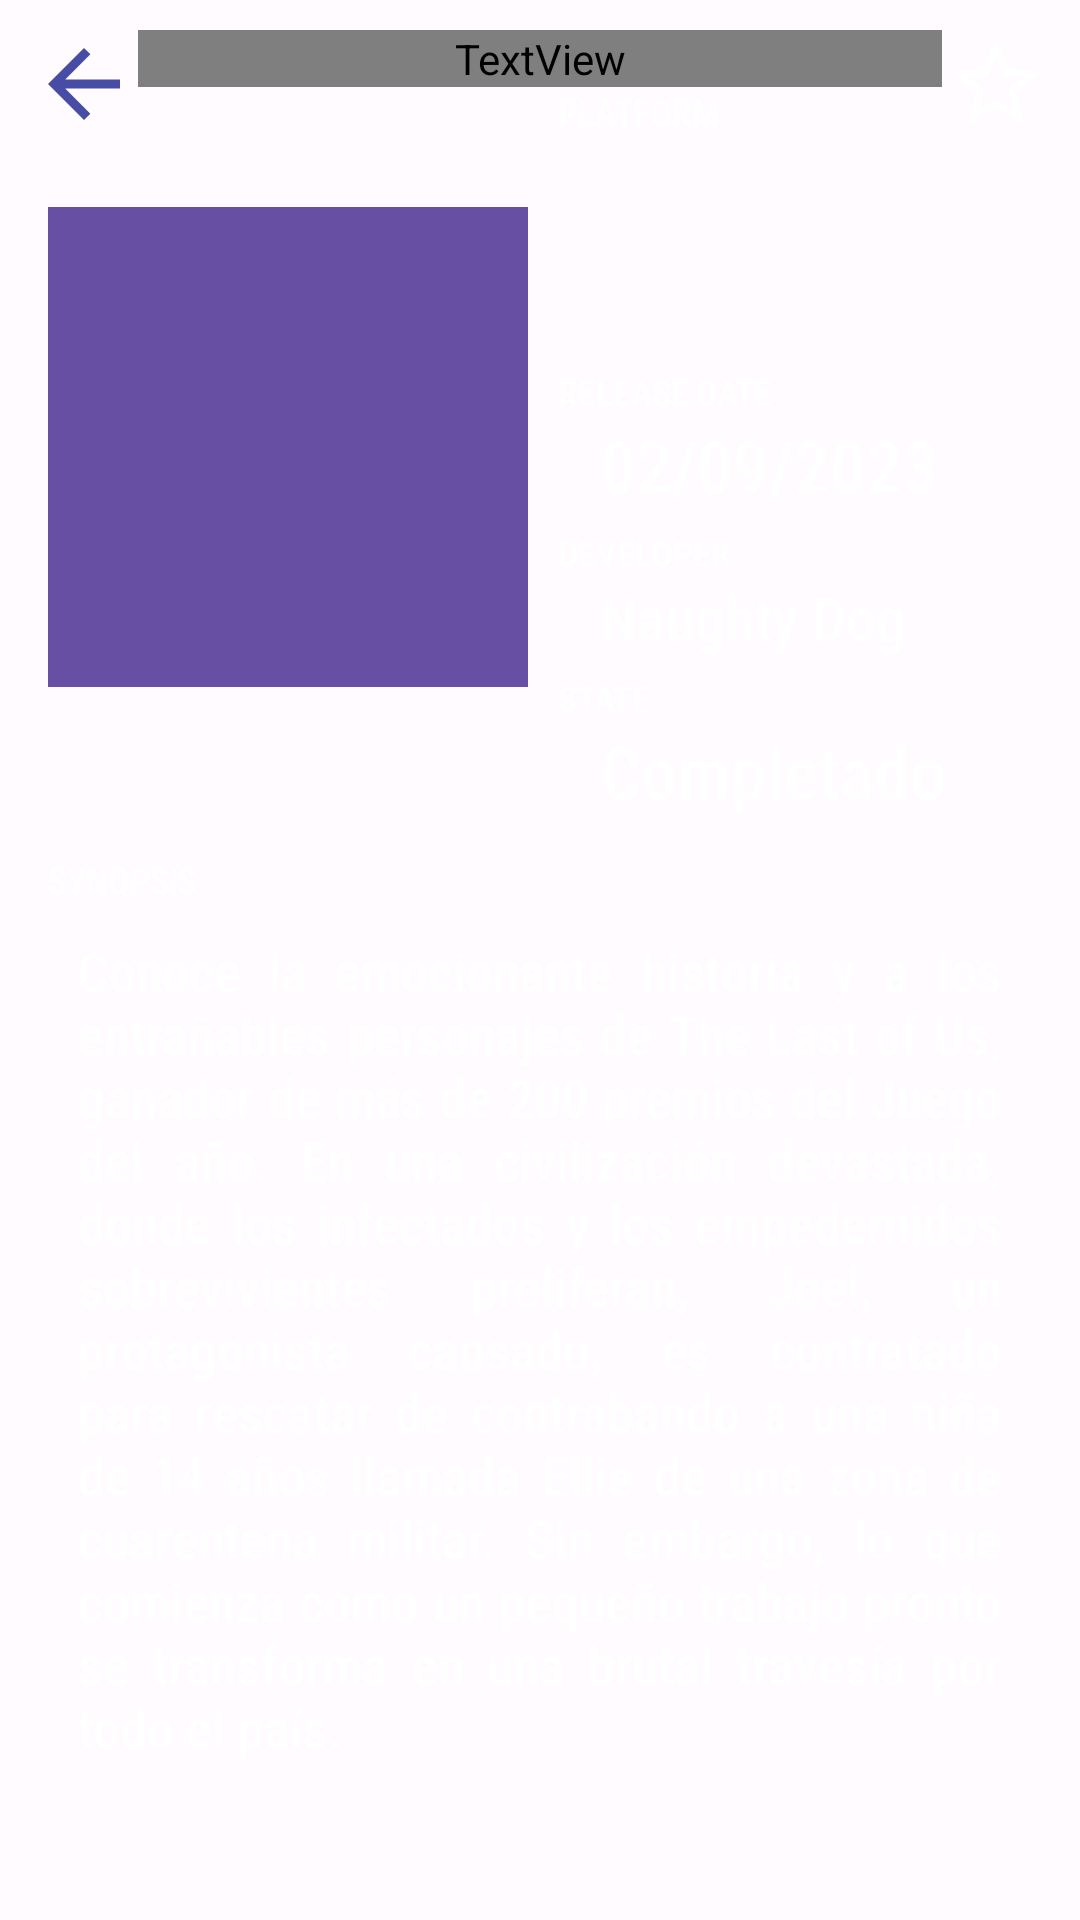

Icon click points for this 1080px x 1920px phone screenshot, format [x,y]:
arrow back: [84,84]
